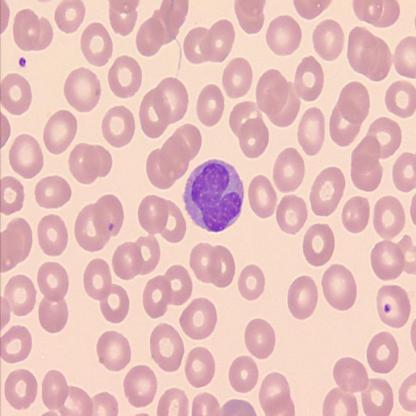Monocyte: (182, 156, 247, 233)
